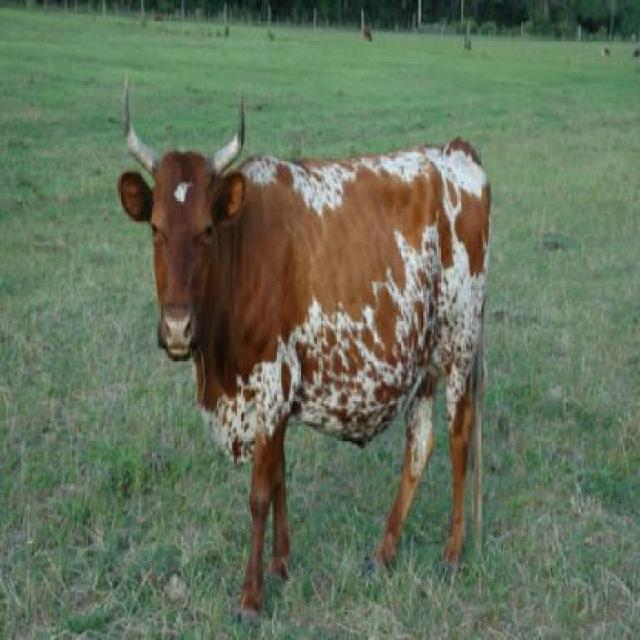Cow: (117, 78, 489, 612)
